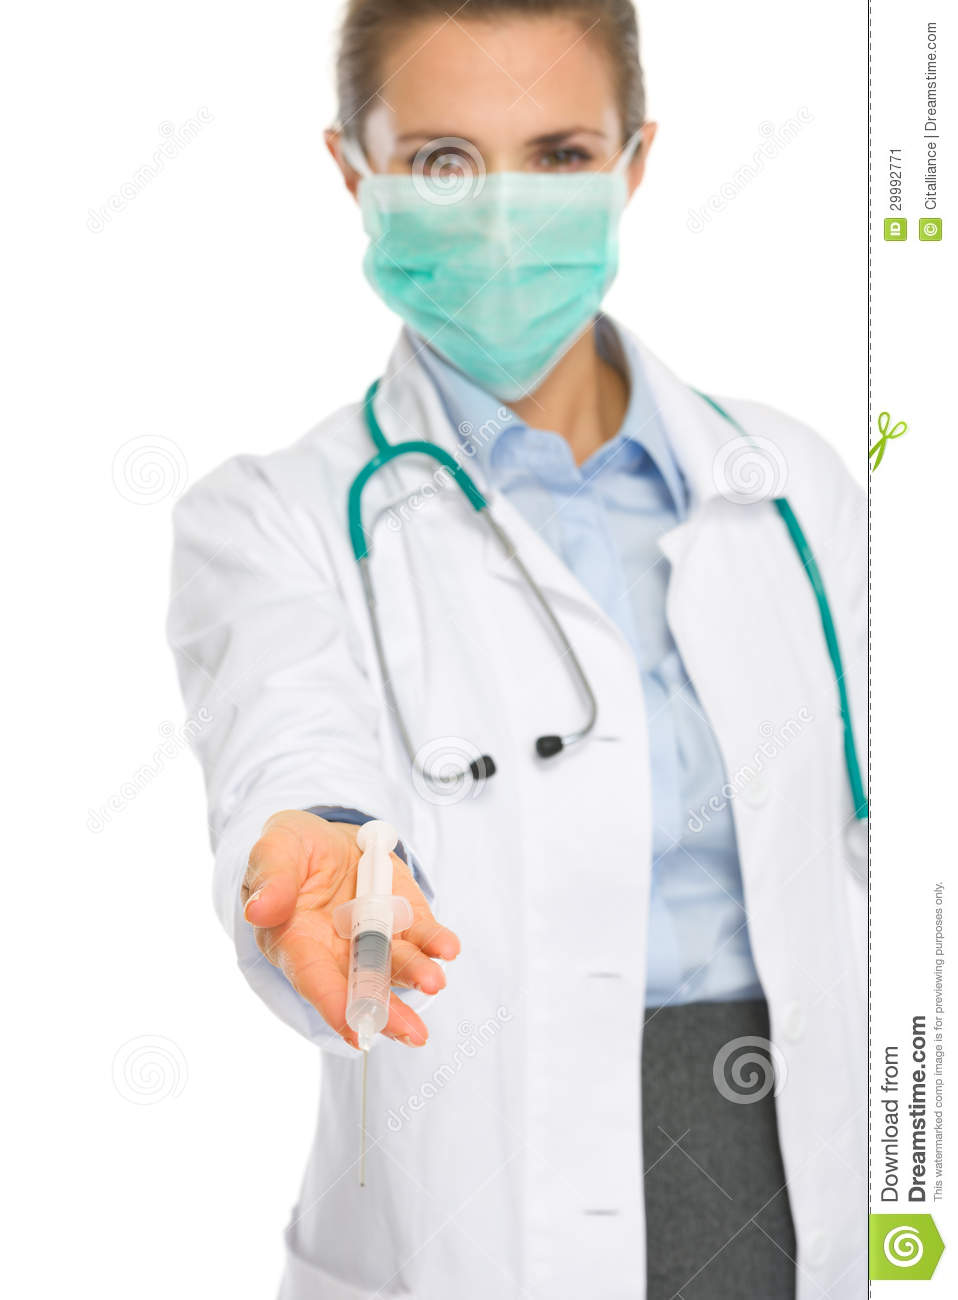mask: (358, 165, 627, 407)
